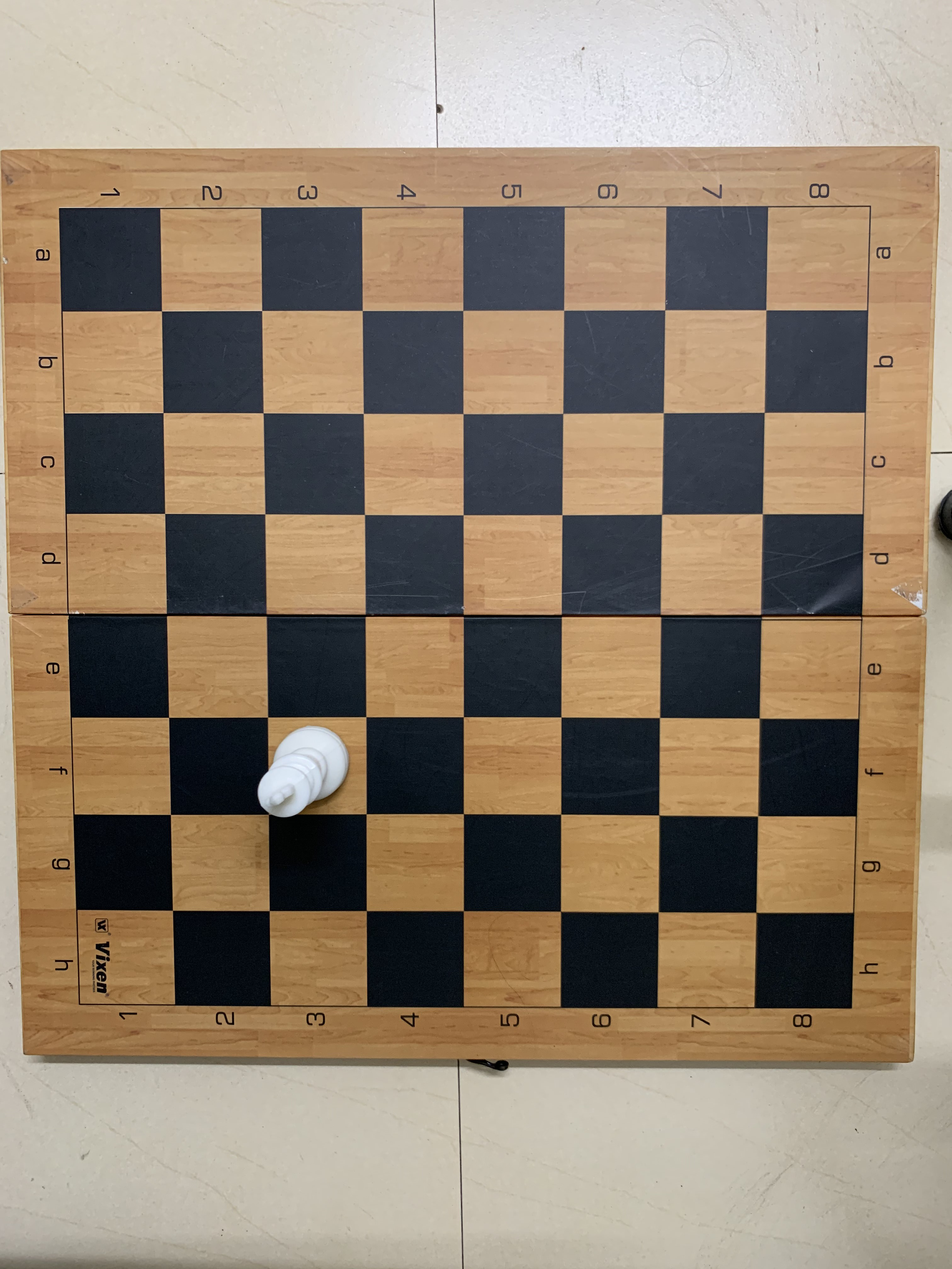white_king: (257, 714, 367, 817)
